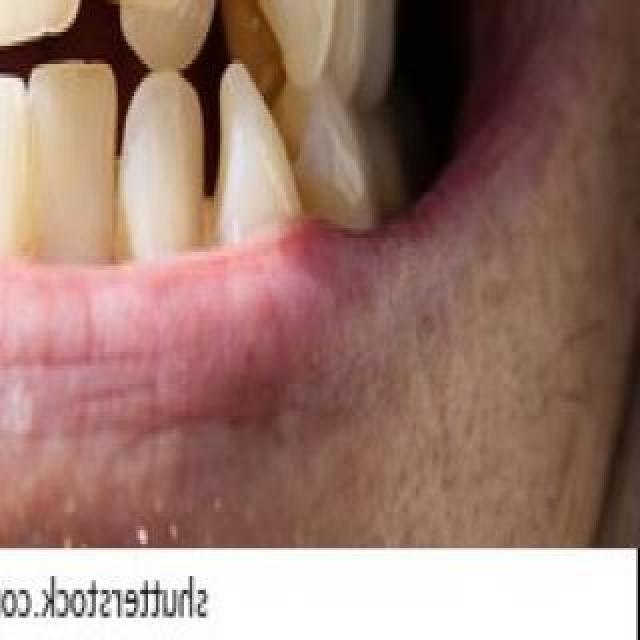maligned: (20, 56, 134, 266), (193, 84, 293, 260), (113, 80, 211, 252), (30, 0, 216, 48), (0, 78, 34, 256), (122, 0, 240, 48), (234, 0, 402, 30)
spacing: (173, 66, 255, 216)
